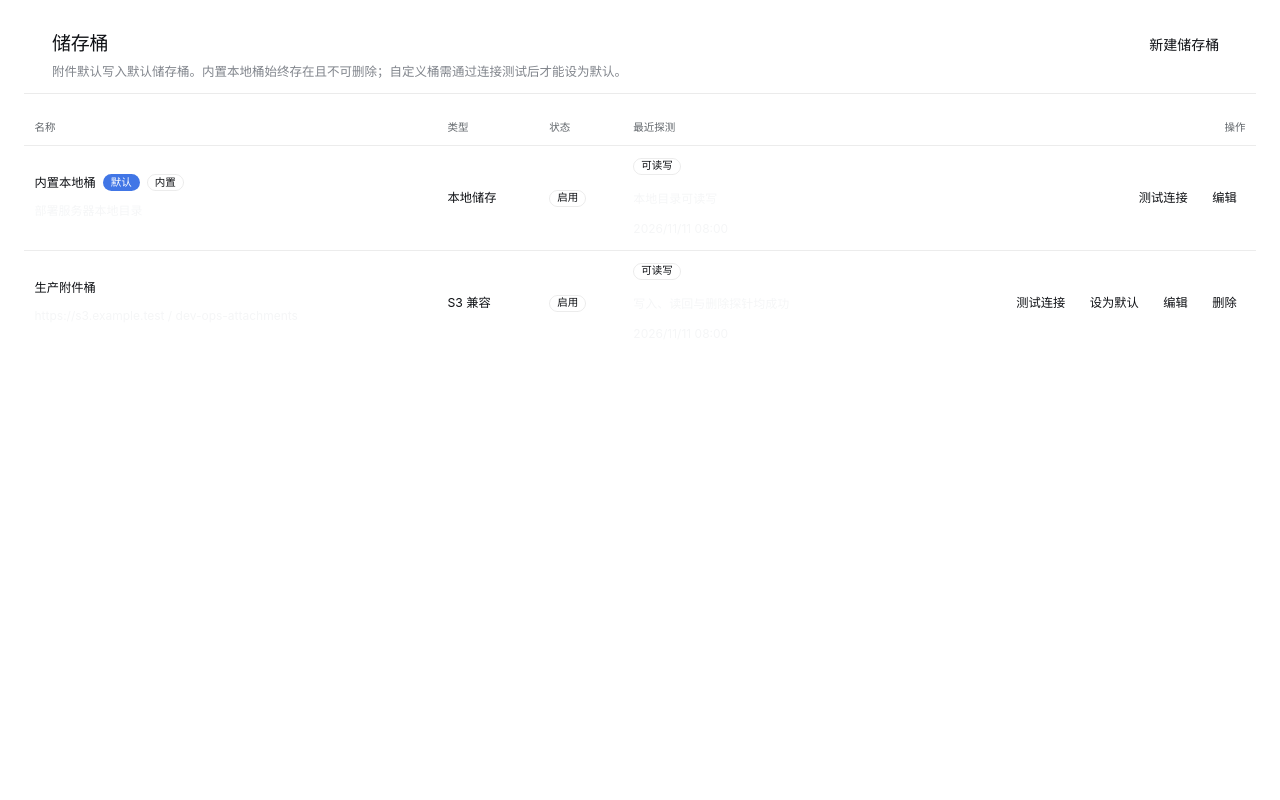
Test: StorageBucketManagement › 设为默认前二次确认，确认后提交版本并提示成功
Click the button "设为默认": (1114, 303) [1081, 290, 1148, 315]
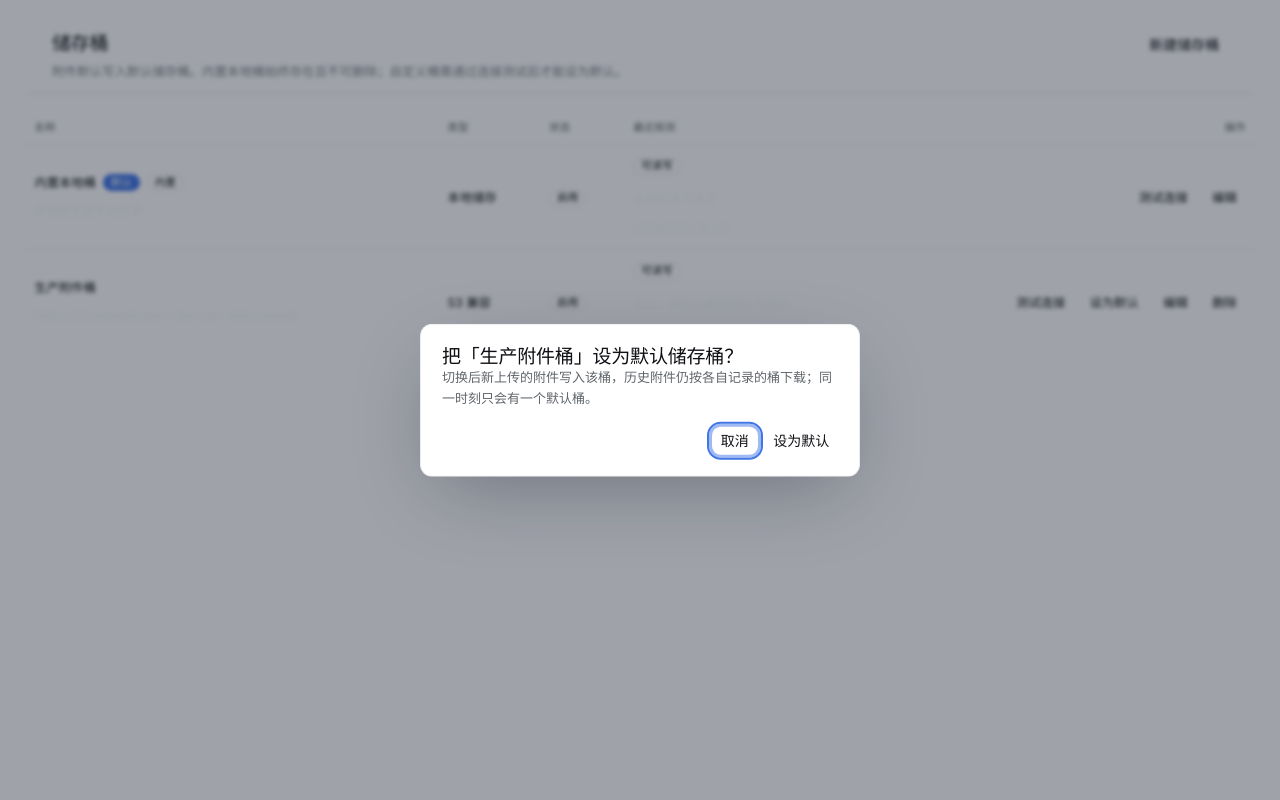
Now the dialog shows "设为默认储存桶", box [442, 345, 743, 368]
Click the button "设为默认": (801, 440) [764, 426, 838, 454]
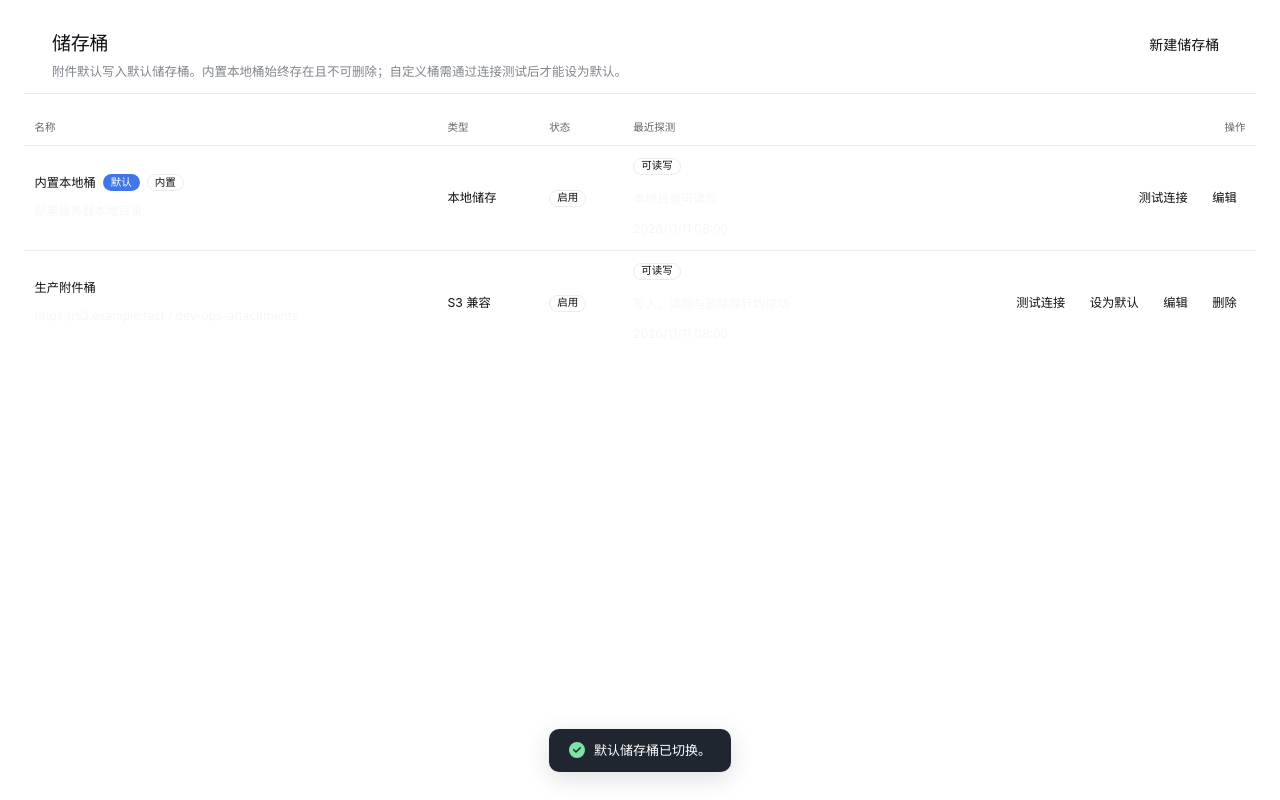
Now the text "默认储存桶已切换。" is shown, box [594, 740, 711, 760]
